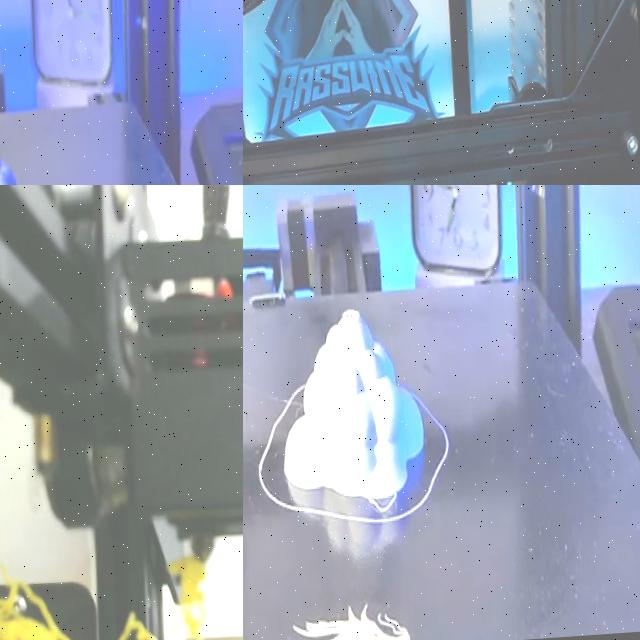spaghetti: (0, 565, 73, 640)
